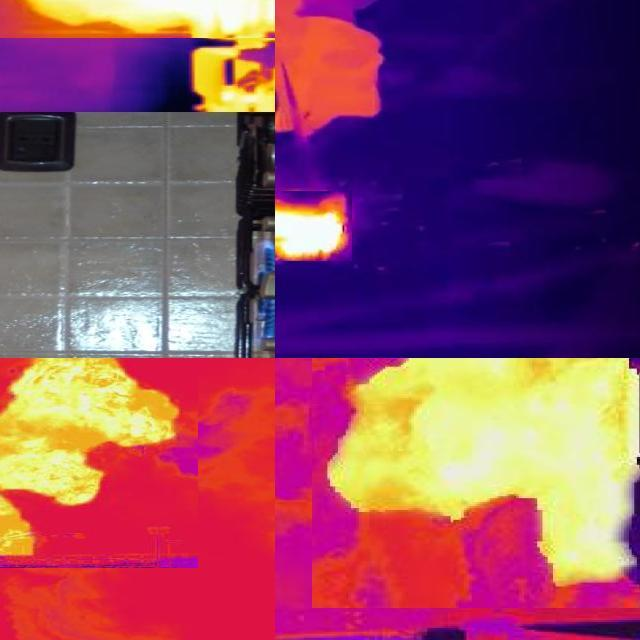fire: (325, 359, 640, 589), (1, 359, 180, 559), (16, 1, 277, 43), (184, 46, 277, 113), (276, 191, 353, 261)
